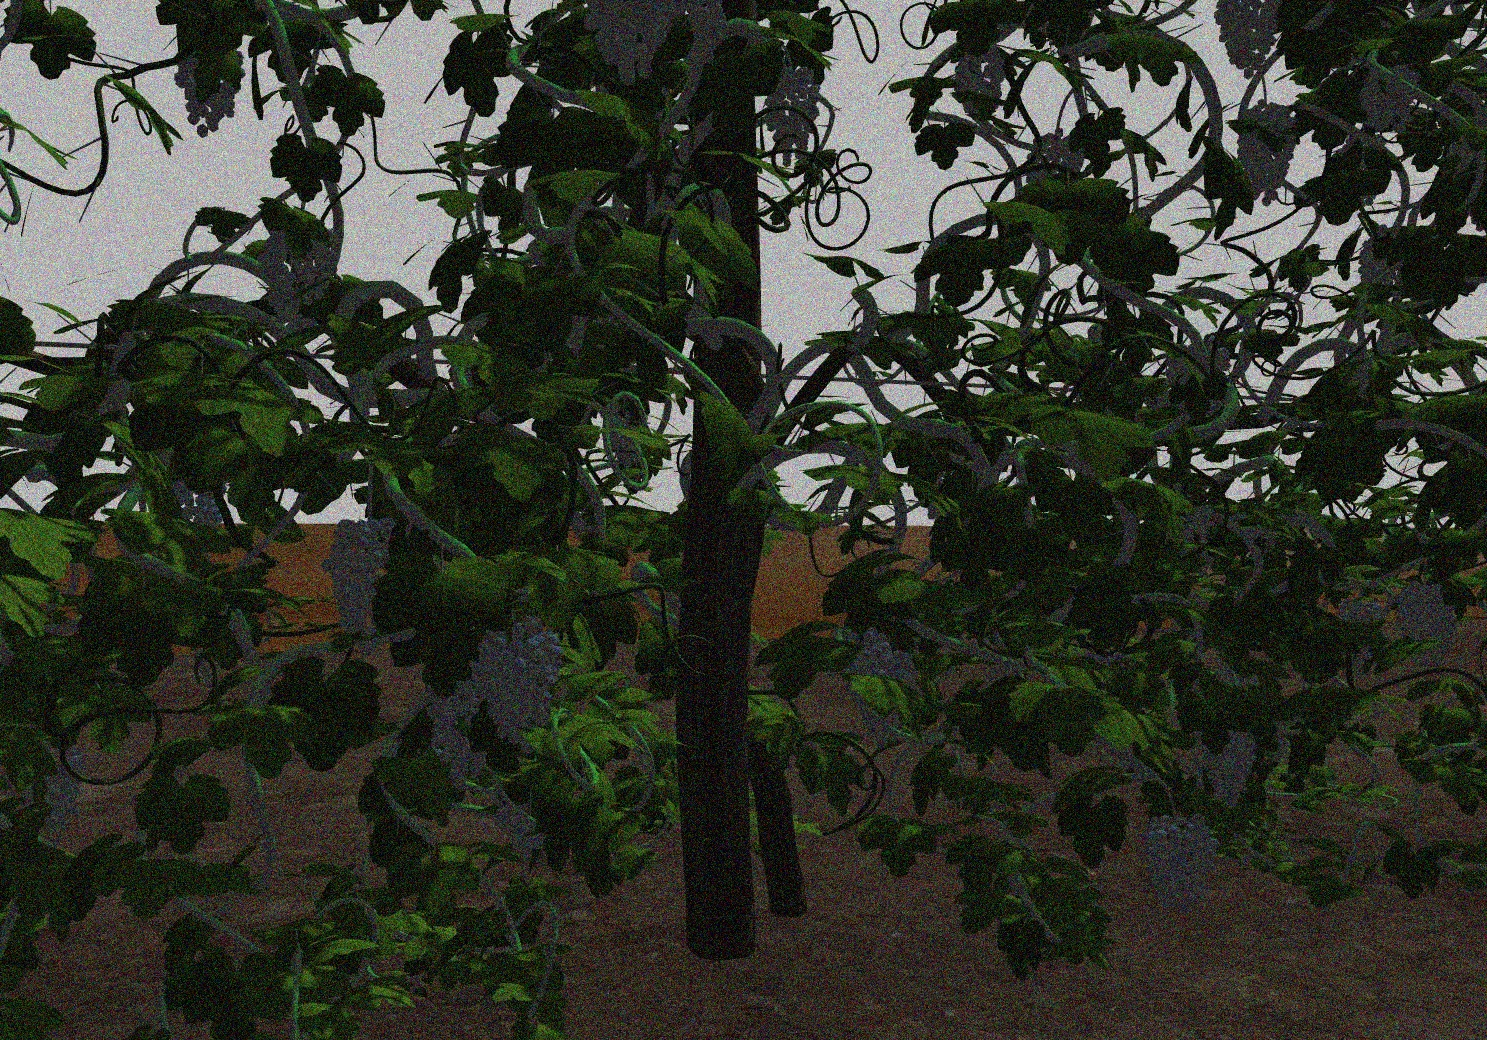grape: (321, 512, 399, 653), (482, 619, 562, 742), (843, 633, 922, 749), (1139, 815, 1221, 922), (254, 213, 334, 320), (583, 6, 678, 88), (1229, 99, 1299, 208), (427, 670, 486, 785), (172, 47, 247, 135), (1394, 579, 1459, 673), (766, 63, 823, 161), (1198, 722, 1261, 804), (1215, 5, 1282, 80), (953, 43, 1008, 123), (1356, 67, 1423, 129)
